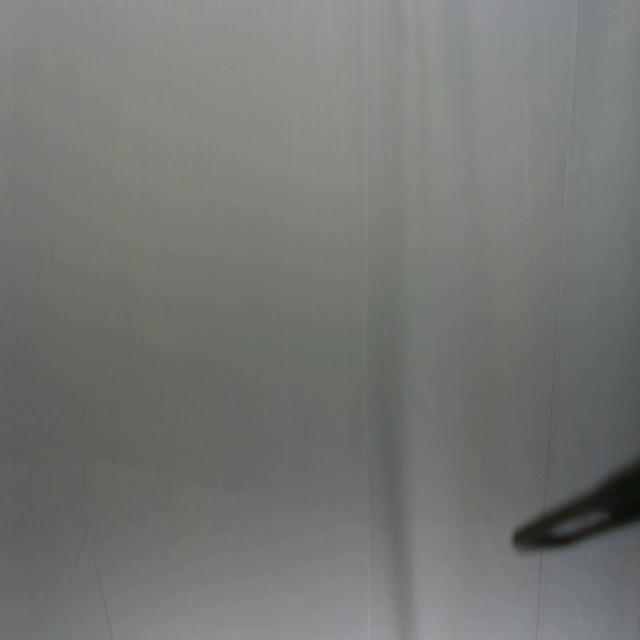crease: (542, 0, 581, 490), (361, 0, 376, 640), (91, 551, 115, 636), (532, 551, 544, 640)
